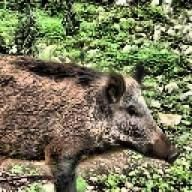boar: (0, 43, 180, 192)
